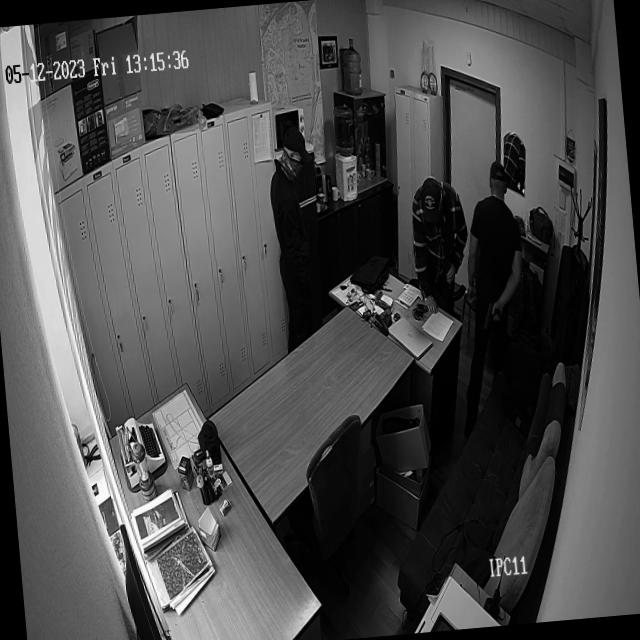gun: (439, 228, 468, 318), (480, 296, 503, 334)
person: (261, 124, 337, 332)
person with a gun: (456, 138, 546, 459), (404, 150, 472, 358)
